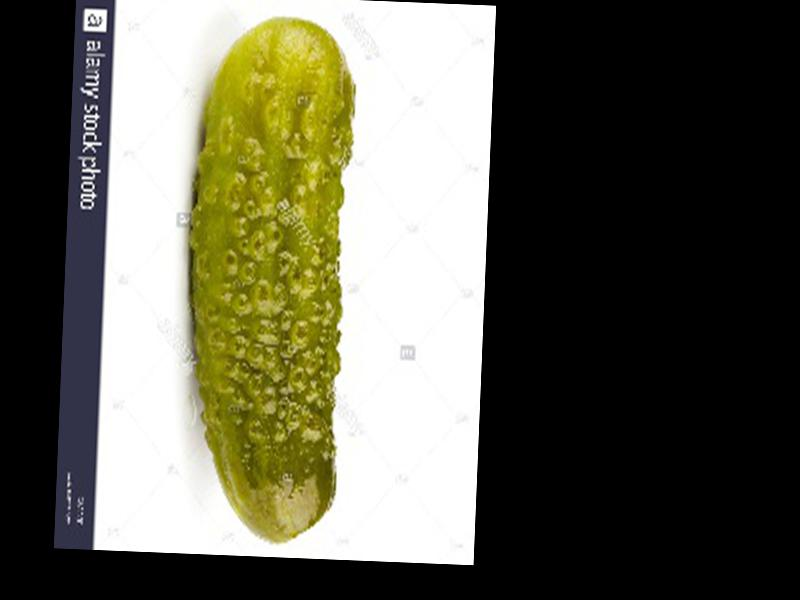Cucumber: (177, 13, 358, 547)
